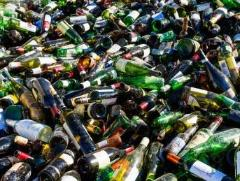glass: (55, 94, 97, 156), (189, 126, 240, 158), (76, 144, 132, 172), (112, 56, 163, 78)
